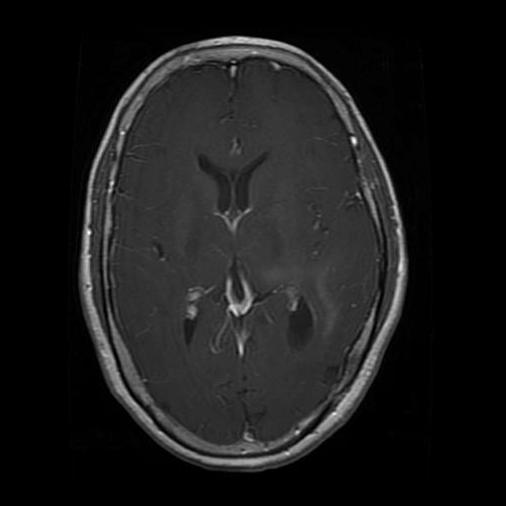Tumour-Glioma: (310, 347, 391, 400)
